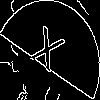X: (25, 25, 66, 82)
